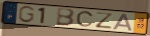1: (37, 8, 48, 25)
A: (112, 13, 134, 32)
B: (56, 8, 76, 27)
C: (76, 11, 95, 28)
G: (17, 5, 36, 24)
Z: (95, 12, 115, 30)
